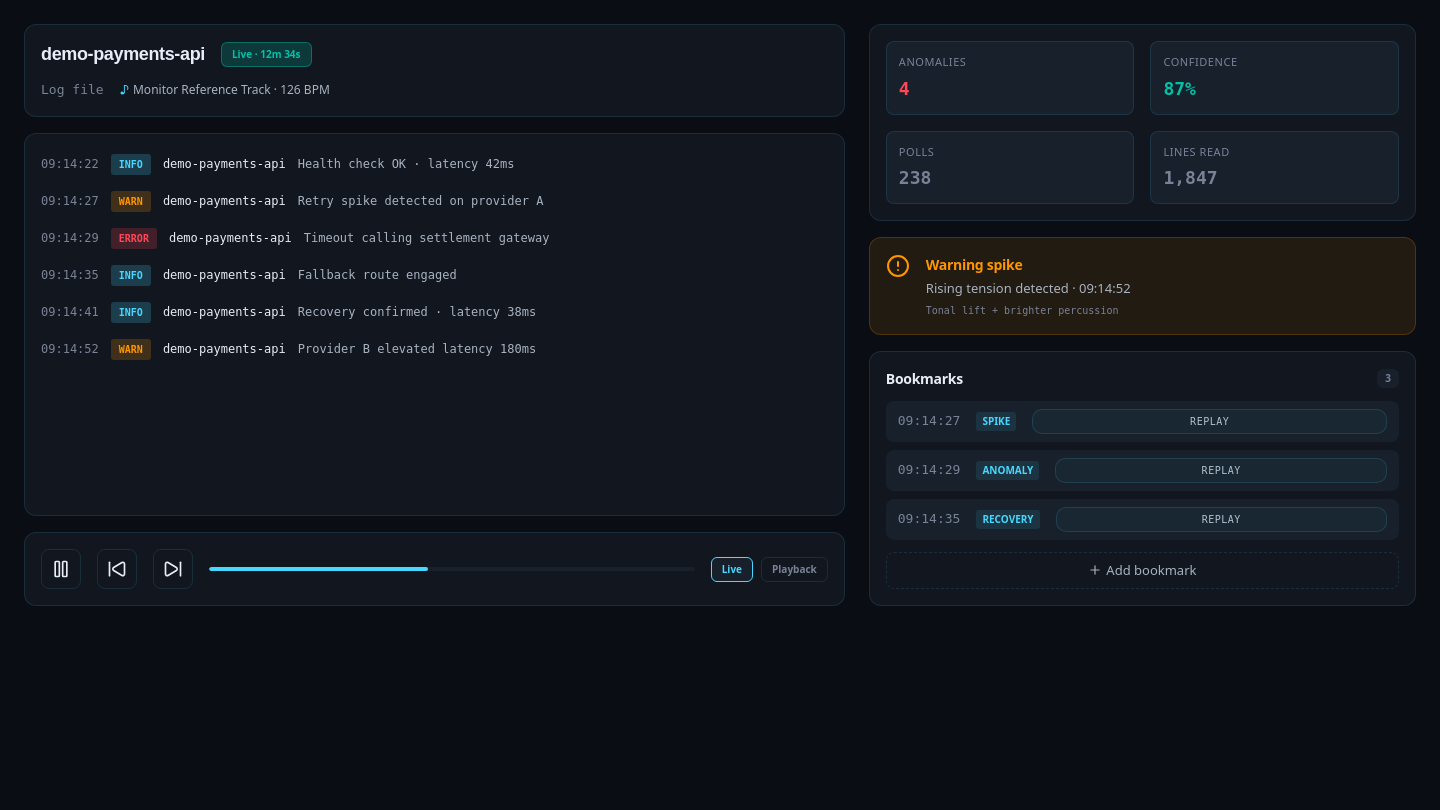
Scenario: ProMonitorScreen › adds a custom bookmark from the action button
Check: the number of elements with class "bookmark-row" is 3, box x1=886 y1=400 x2=1399 y2=442; x1=886 y1=450 x2=1399 y2=490; x1=886 y1=498 x2=1399 y2=540
Click the button with class "btn-add-bookmark": (1142, 570) x1=886 y1=552 x2=1399 y2=589
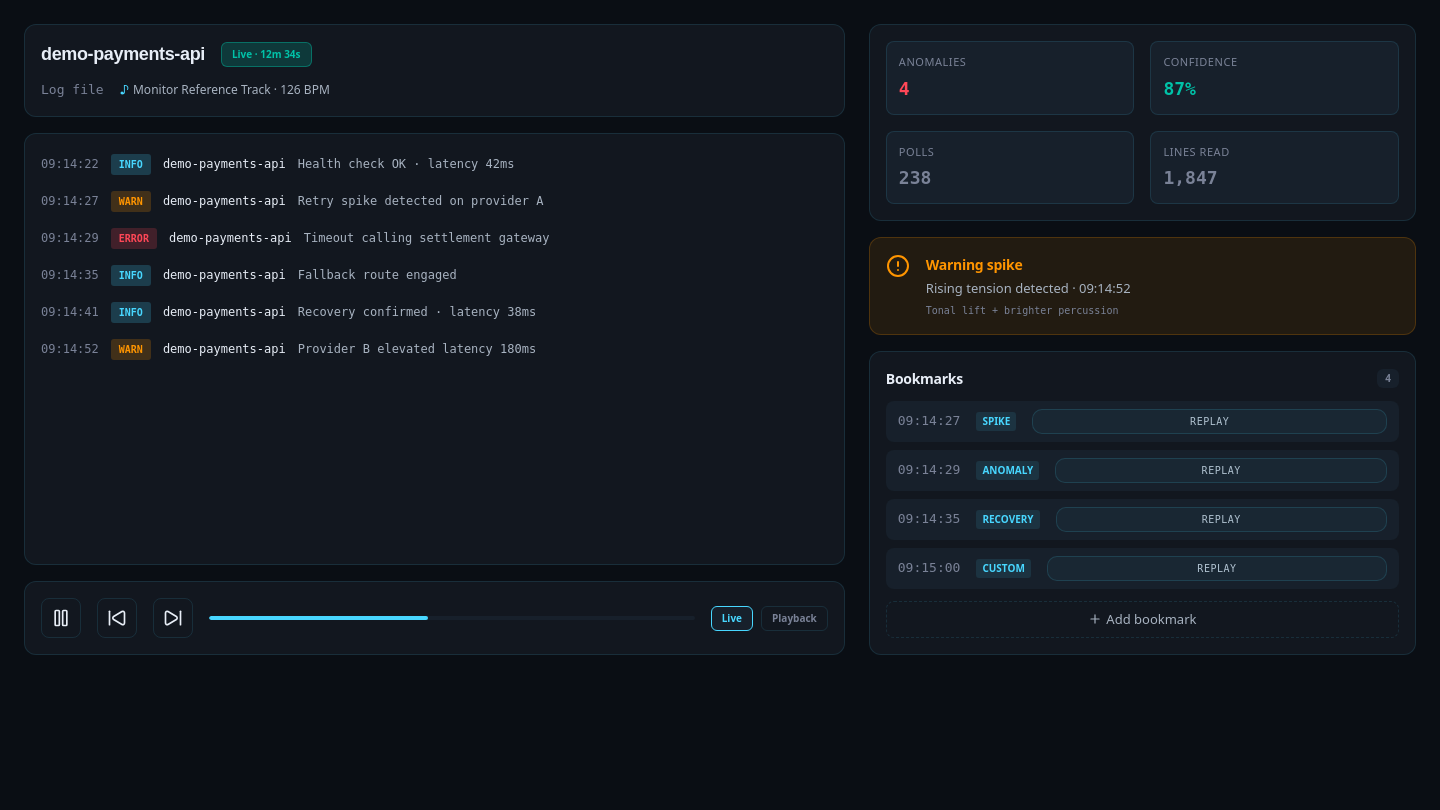
Check: the number of elements with class "bookmark-row" is 4, box x1=886 y1=400 x2=1399 y2=442; x1=886 y1=450 x2=1399 y2=490; x1=886 y1=498 x2=1399 y2=540; x1=886 y1=548 x2=1399 y2=588
